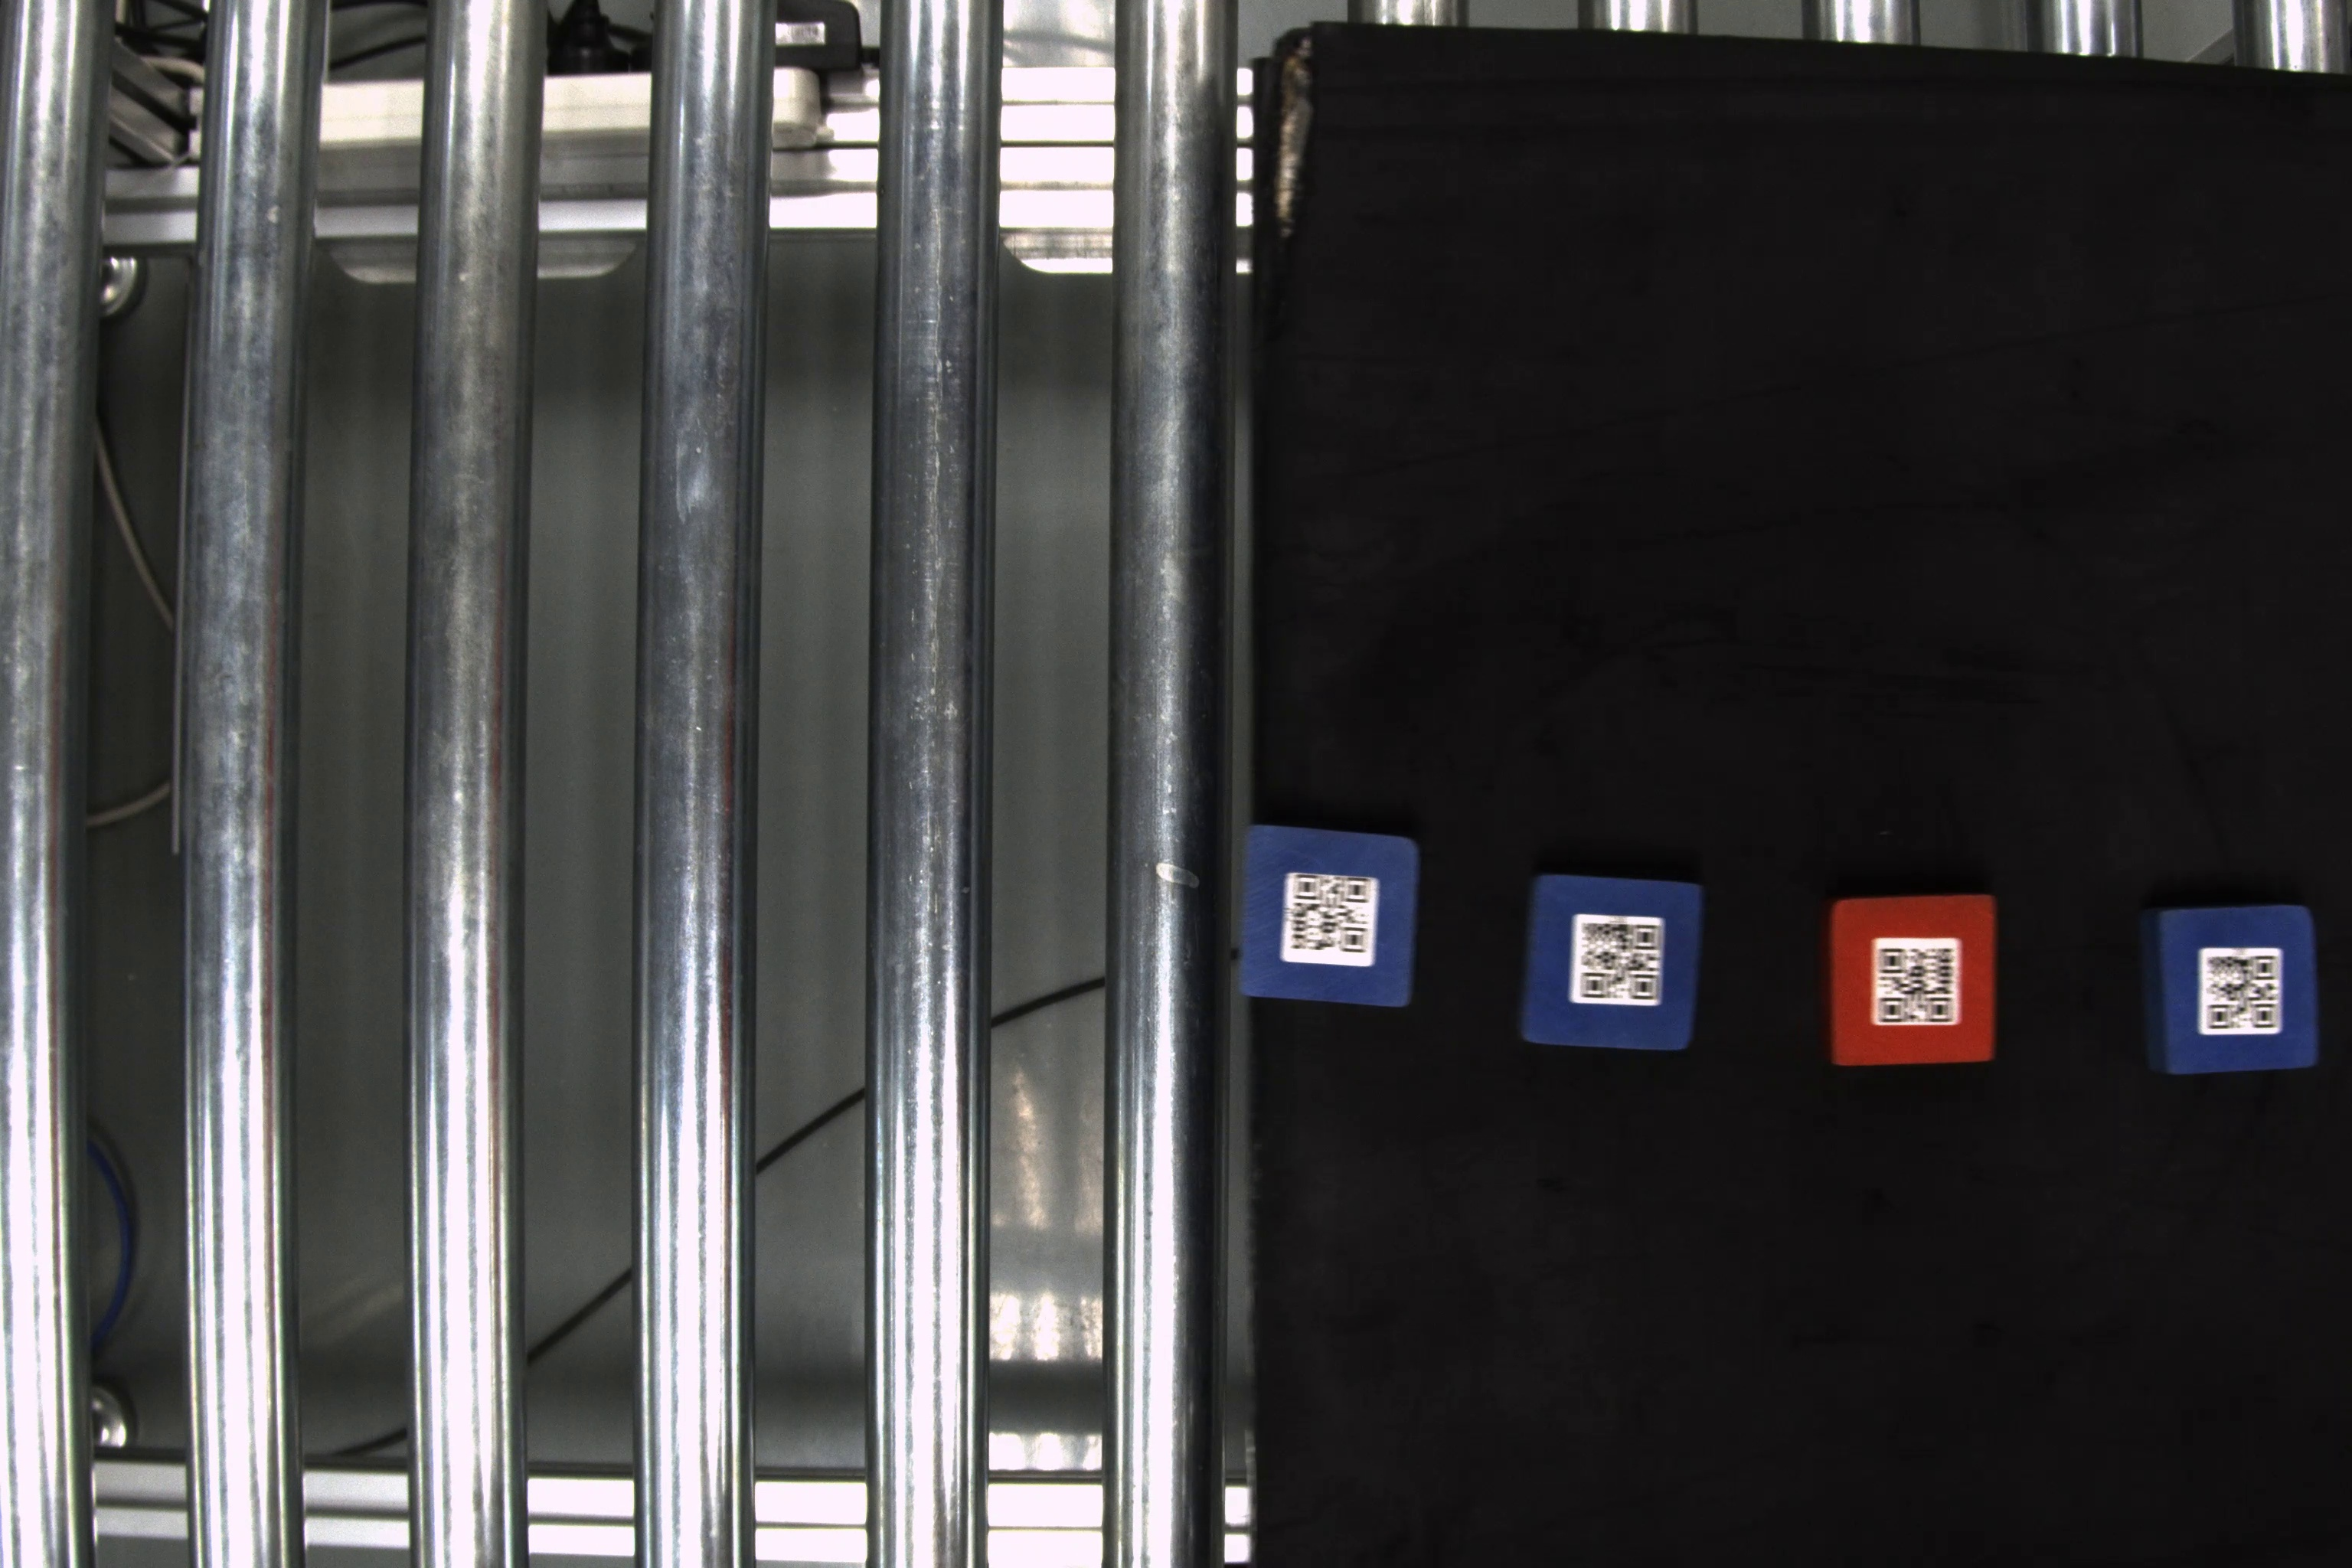wood: (1237, 821, 1428, 1011), (2133, 901, 2320, 1081), (1521, 871, 1710, 1050), (1825, 891, 2002, 1073)
